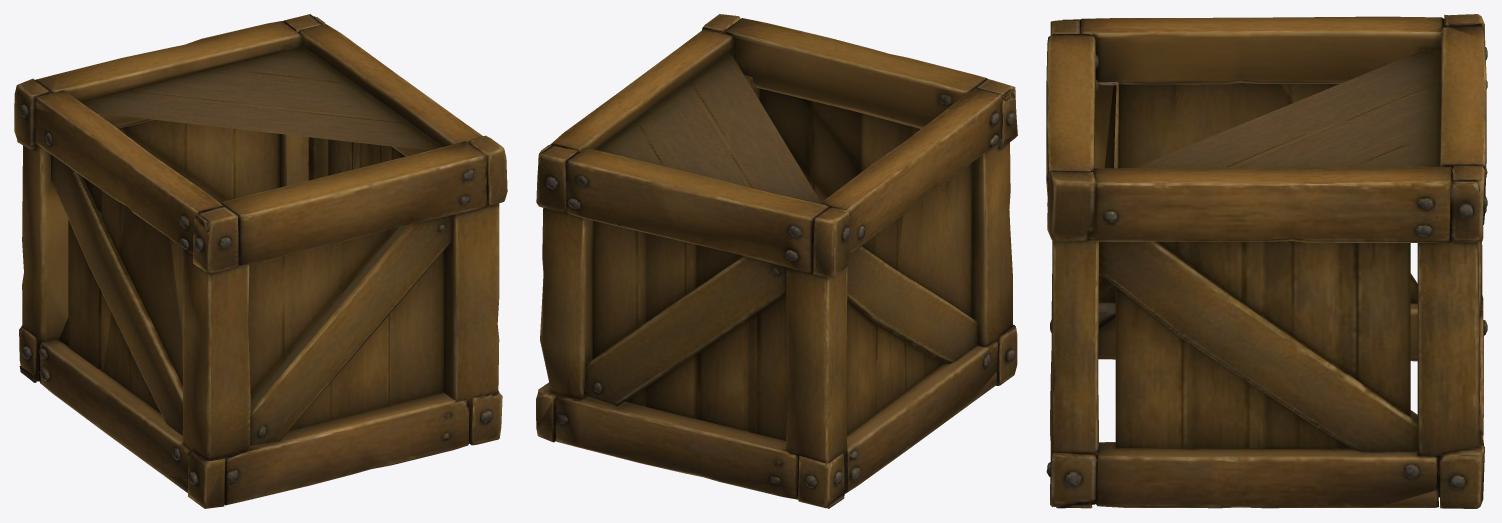
Rendered from runtime-broken-wooden-crate.glb.
The picture shows the model from 3 angles, left to right: view 1: azimuth 30°, elevation 25°; view 2: azimuth 150°, elevation 25°; view 3: azimuth 270°, elevation 25°; orthographic projection. The views are drawn at different scales.
Parts seen in each view (by area): view 1: tripo_node_0d1e112f-c221-4613-9d48-7813b87442fa; view 2: tripo_node_0d1e112f-c221-4613-9d48-7813b87442fa; view 3: tripo_node_0d1e112f-c221-4613-9d48-7813b87442fa.
Part boxes in pixels (left/top/right/bottom): tripo_node_0d1e112f-c221-4613-9d48-7813b87442fa: left=14, top=14, right=507, bottom=508; tripo_node_0d1e112f-c221-4613-9d48-7813b87442fa: left=536, top=14, right=1017, bottom=508; tripo_node_0d1e112f-c221-4613-9d48-7813b87442fa: left=1046, top=14, right=1487, bottom=508.
Bounding box in the file's own units: 0.9199 × 0.8262 × 0.998.
1 material, 1 textured.
